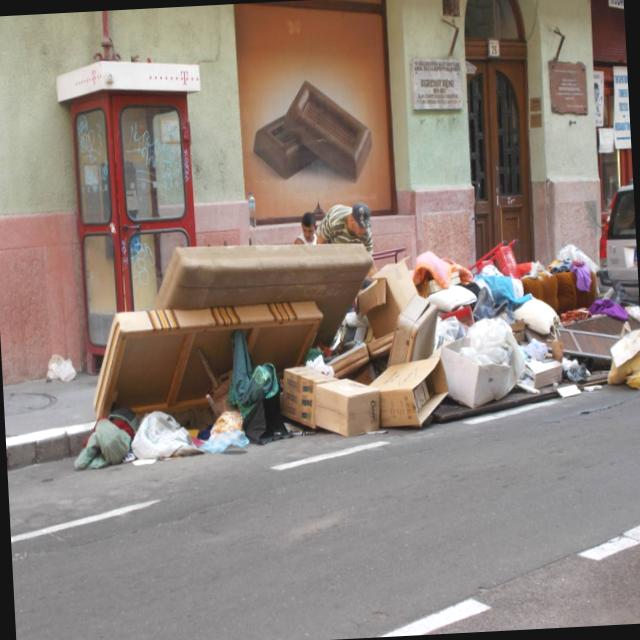garbage: (55, 191, 640, 477)
